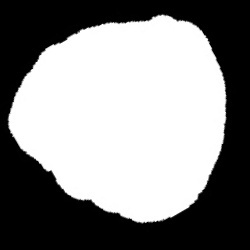spot: (7, 15, 230, 224)
